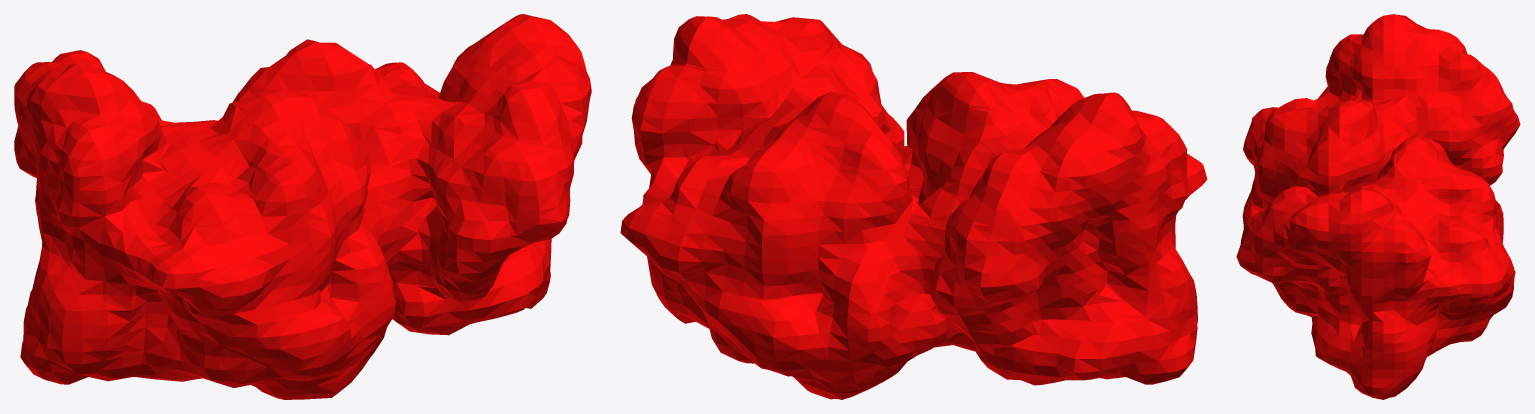
File: acnB_coarse.dae
3 renders of one model, left to right at view 1: azimuth 30°, elevation 25°; view 2: azimuth 150°, elevation 25°; view 3: azimuth 270°, elevation 25°, orthographic. The views are drawn at different scales.
Visible parts, largest first — view 1: acnB; view 2: acnB; view 3: acnB.
Boxes of the visible parts, bbox=[...] form: acnB: bbox=[14, 14, 591, 399]; acnB: bbox=[620, 14, 1207, 399]; acnB: bbox=[1236, 14, 1520, 399].
Size of the model in its own units: 131 by 79.05 by 85.68.
